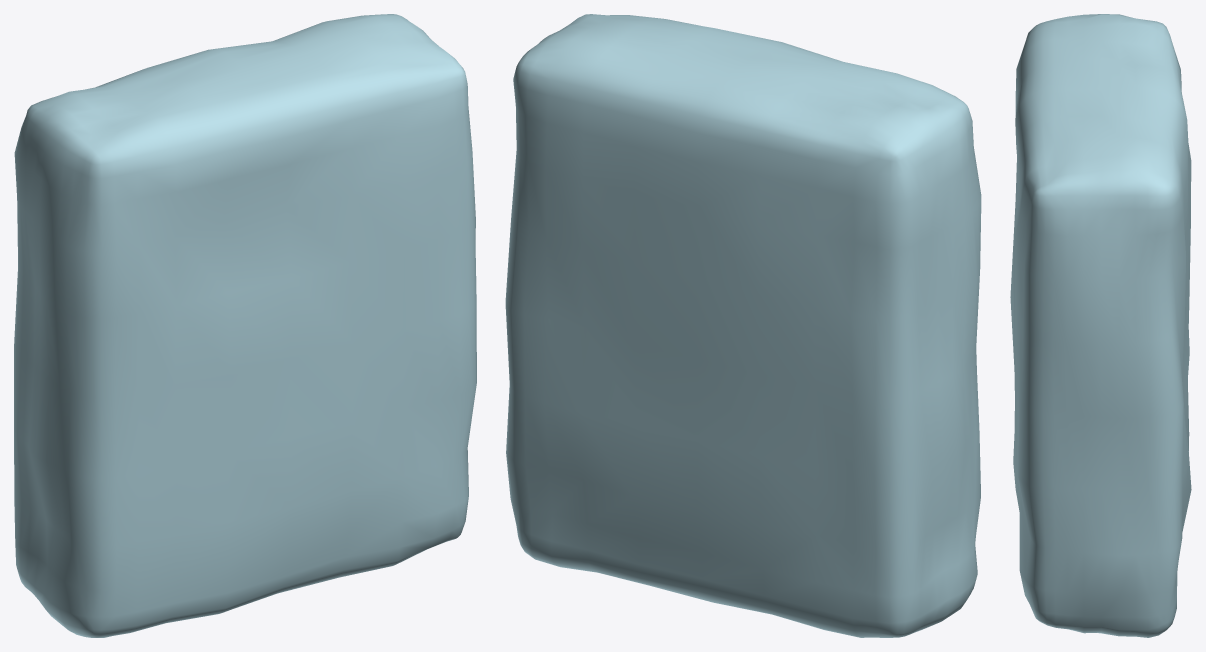
The model's file is ice.fbx.
The picture shows the model from 3 angles, left to right: view 1: azimuth 30°, elevation 25°; view 2: azimuth 150°, elevation 25°; view 3: azimuth 270°, elevation 25°; orthographic projection. The views are drawn at different scales.
Visible parts, largest first — view 1: Ice; view 2: Ice; view 3: Ice.
Boxes of the visible parts, box(x1,y1,x2,y2) form: Ice: box(14, 14, 476, 637); Ice: box(505, 14, 981, 637); Ice: box(1010, 14, 1191, 637).
Bounding box in the file's own units: 255 × 304 × 104.
